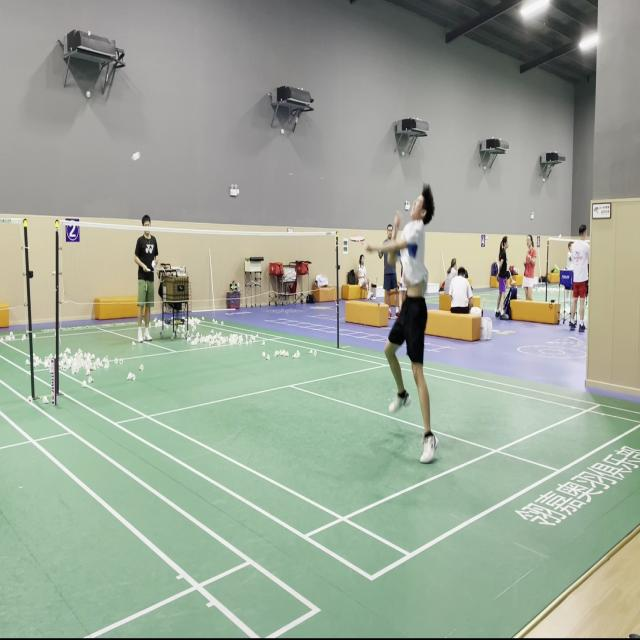shuttlecock: (131, 151, 141, 162)
